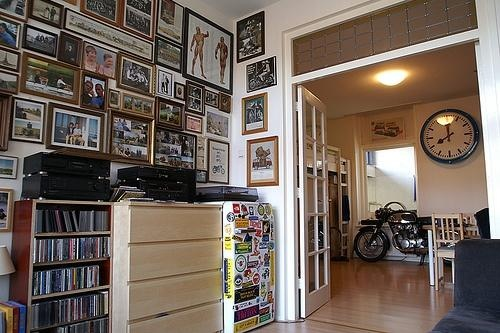chair: (432, 213, 466, 291)
motorbike: (355, 203, 432, 267)
sofa: (431, 239, 500, 333)
